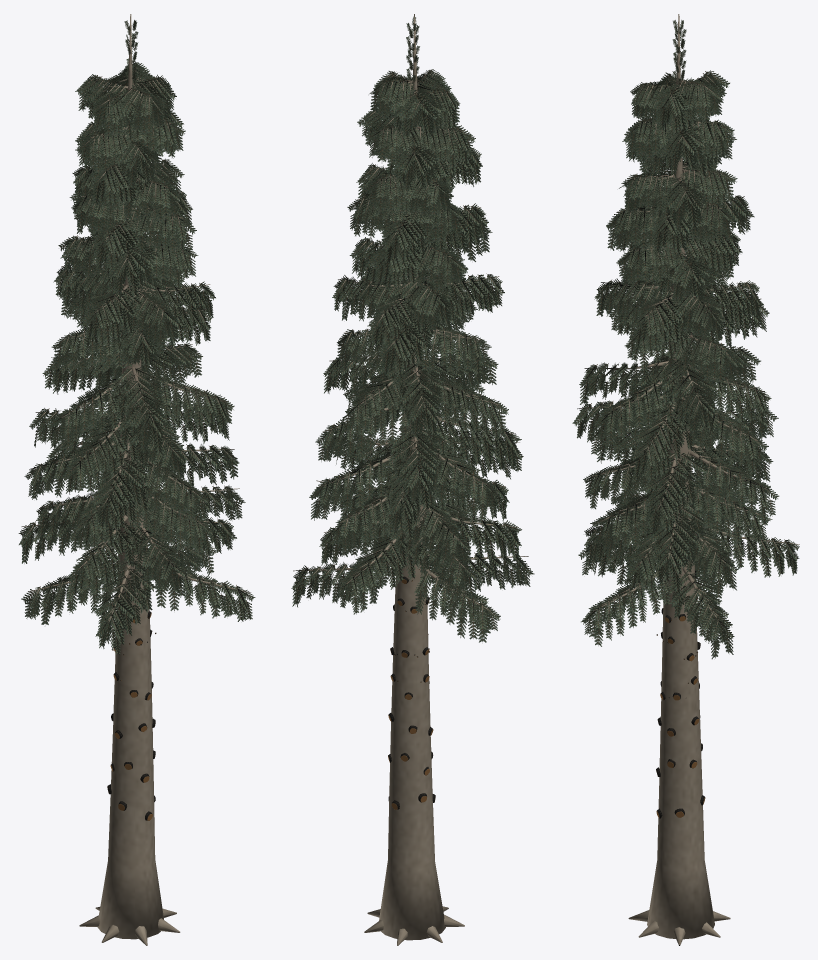
Rendered from Sitka_Mature_01_HighPruned_Recent_LOD0.fbx.
3 renders of one model, left to right at view 1: azimuth 30°, elevation 25°; view 2: azimuth 150°, elevation 25°; view 3: azimuth 270°, elevation 25°, orthographic.
Visible parts, largest first — view 1: Sitka_Mature_01_HighPruned_Recent_LOD0, Sitka_Mature_01_HighPruned_Recent_LOD0_Scars; view 2: Sitka_Mature_01_HighPruned_Recent_LOD0, Sitka_Mature_01_HighPruned_Recent_LOD0_Scars; view 3: Sitka_Mature_01_HighPruned_Recent_LOD0, Sitka_Mature_01_HighPruned_Recent_LOD0_Scars.
Part boxes in pixels (box(x1,y1,x2,y2)): Sitka_Mature_01_HighPruned_Recent_LOD0: box(18, 14, 255, 945); Sitka_Mature_01_HighPruned_Recent_LOD0_Scars: box(107, 605, 156, 820); Sitka_Mature_01_HighPruned_Recent_LOD0: box(291, 14, 534, 945); Sitka_Mature_01_HighPruned_Recent_LOD0_Scars: box(388, 569, 435, 809); Sitka_Mature_01_HighPruned_Recent_LOD0: box(572, 14, 799, 945); Sitka_Mature_01_HighPruned_Recent_LOD0_Scars: box(656, 570, 705, 818).
Size of the model in its own units: 662 by 2801 by 657.
Materials: 3 (3 with a texture image).
